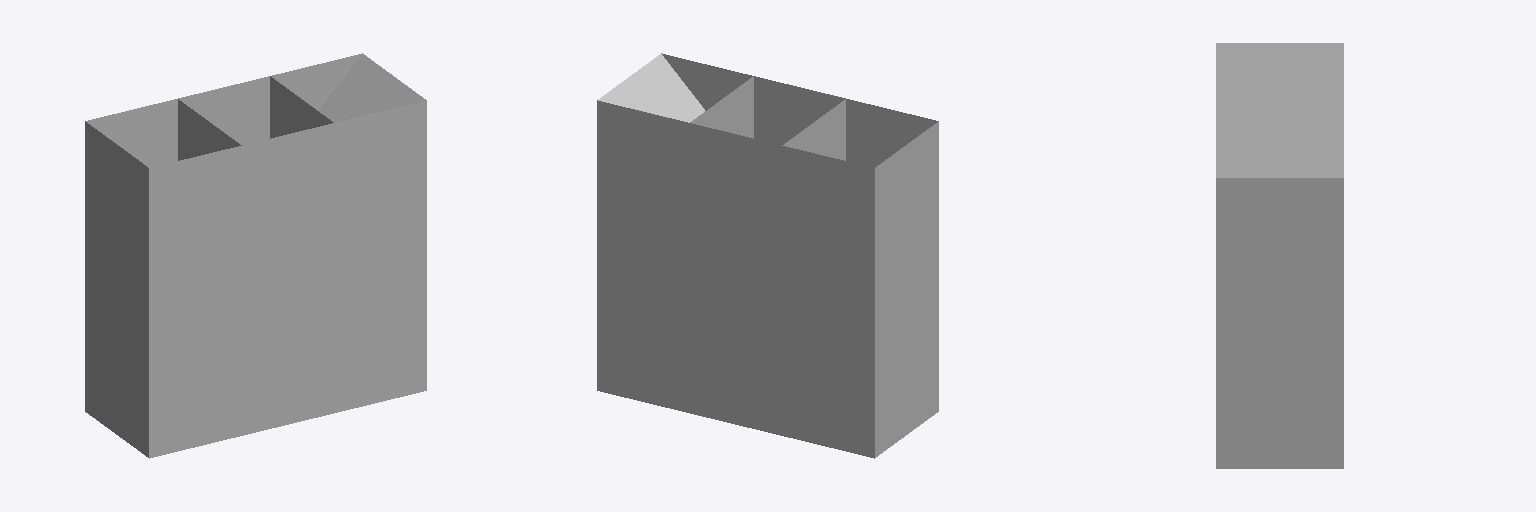
Rendered from 3d_Silithus-Pond01.wlw.obj.
3 renders of one model, left to right at view 1: azimuth 30°, elevation 25°; view 2: azimuth 150°, elevation 25°; view 3: azimuth 270°, elevation 25°, orthographic.
Size of the model in its own units: 25 by 25 by 10.